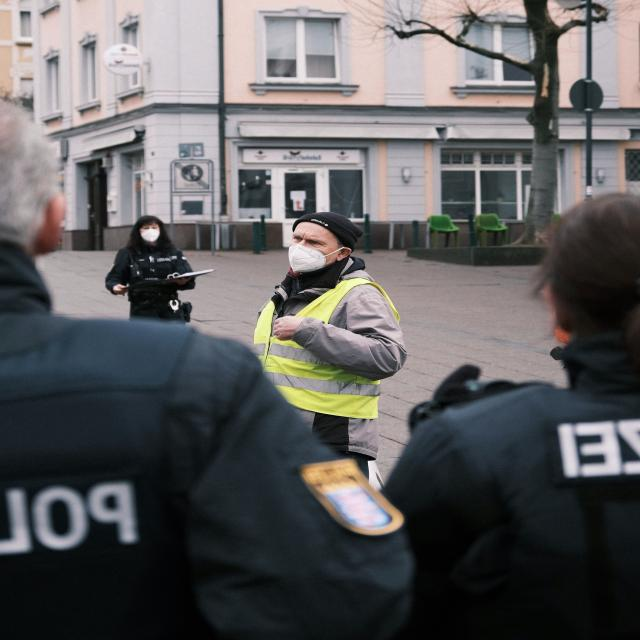adult: (0, 99, 410, 640), (384, 194, 640, 640), (253, 213, 408, 458), (107, 216, 195, 322)
